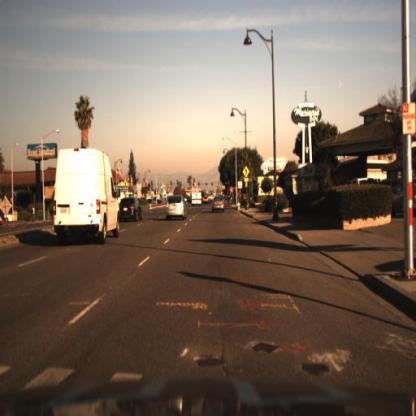car: (51, 144, 122, 251), (119, 193, 146, 229), (167, 194, 190, 223), (211, 194, 228, 217), (189, 190, 205, 211), (187, 193, 199, 212)
pedestrian: (31, 204, 40, 226)
truck: (48, 138, 121, 251), (190, 188, 204, 213)
